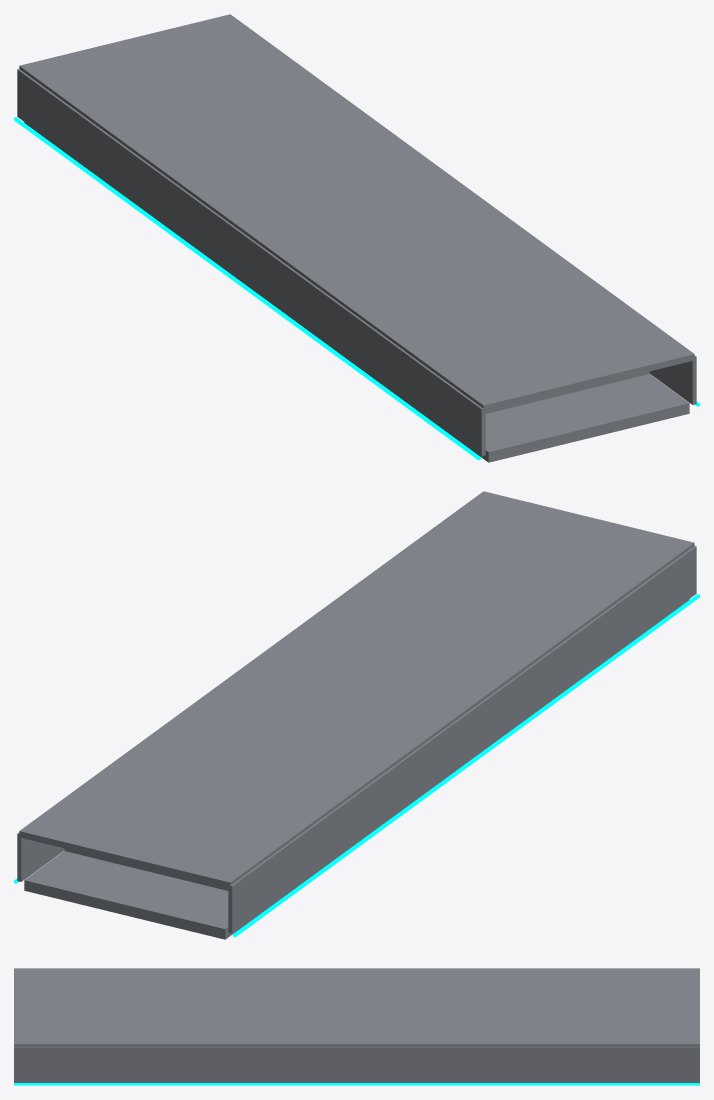
The model's file is ELEV_Walkway_Straight.glb.
3 renders of one model, top to bottom at view 1: azimuth 30°, elevation 25°; view 2: azimuth 150°, elevation 25°; view 3: azimuth 270°, elevation 25°, orthographic. The views are drawn at different scales.
Parts seen in each view (by area): view 1: ELEV_Walkway_Straight; view 2: ELEV_Walkway_Straight; view 3: ELEV_Walkway_Straight.
Boxes of the visible parts, box(x1,y1,x2,y2) form: ELEV_Walkway_Straight: box(14, 14, 699, 462); ELEV_Walkway_Straight: box(14, 491, 699, 939); ELEV_Walkway_Straight: box(14, 968, 699, 1085).
Size of the model in its own units: 4.41 by 1.11 by 16.
